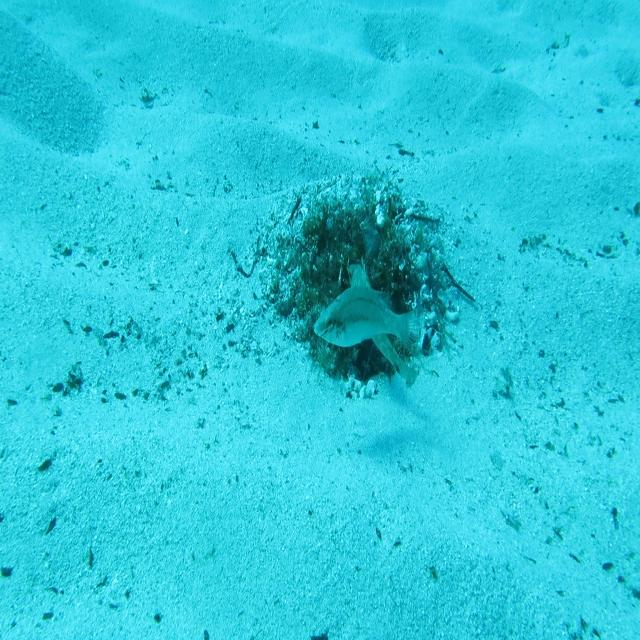FAN: (344, 253, 419, 388)
core_nest: (330, 225, 378, 263)
female: (313, 282, 426, 366)
nest: (252, 153, 466, 407)
vegetation: (310, 630, 330, 640)
